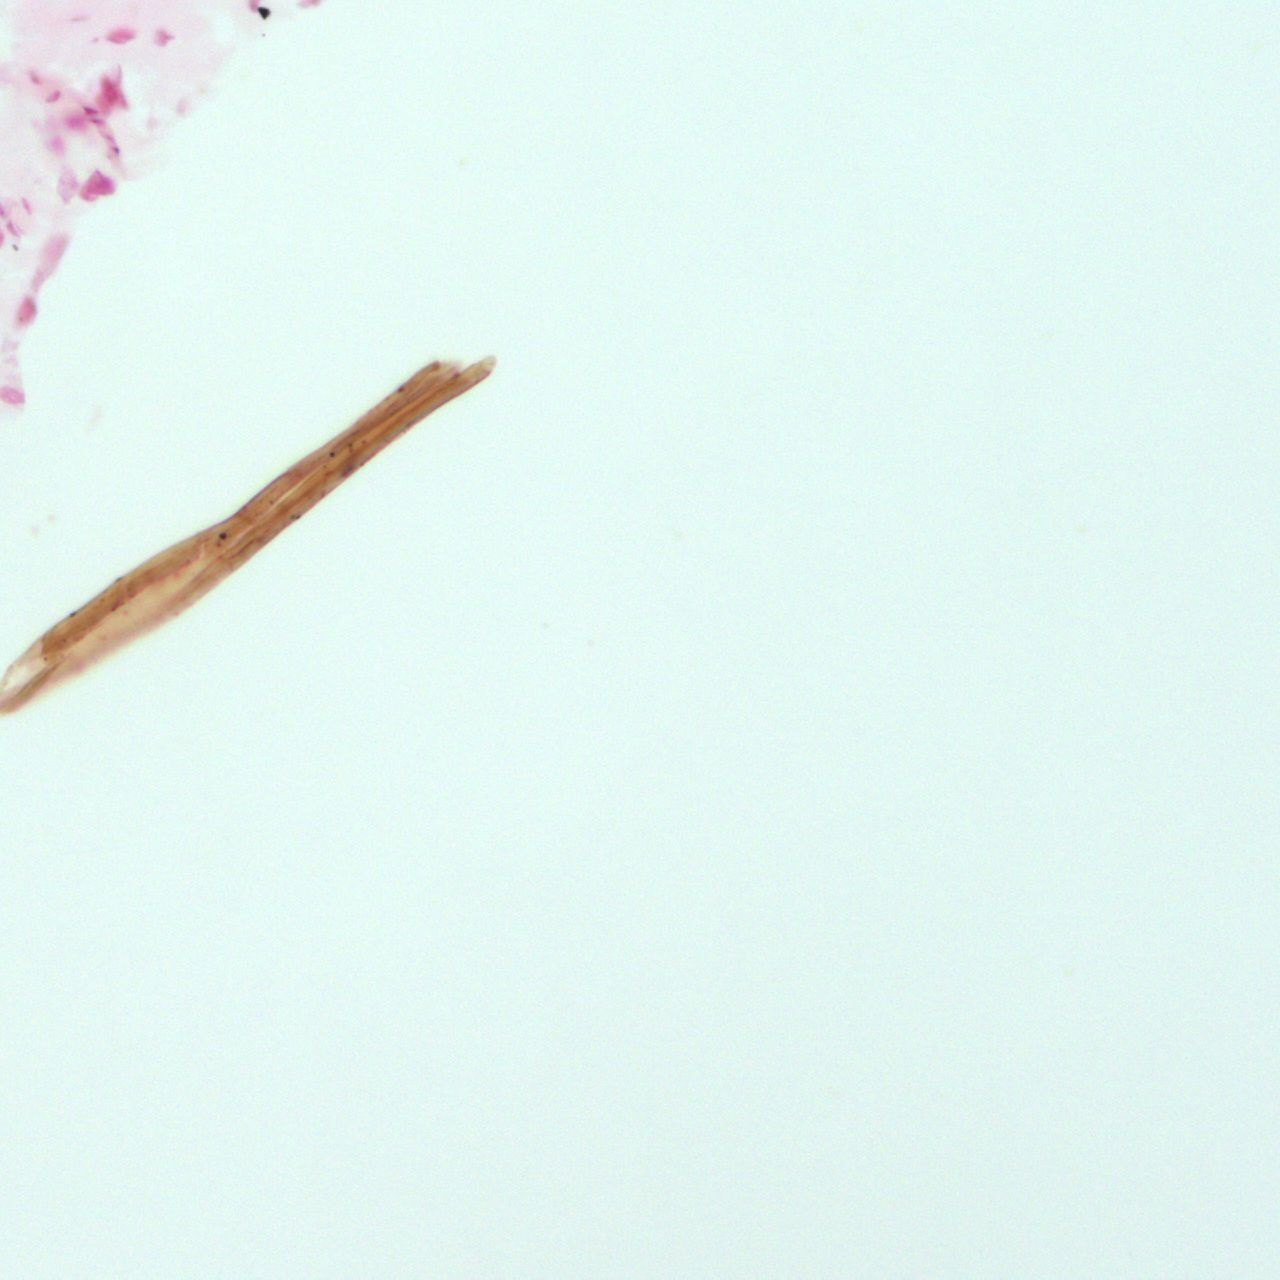dust: (257, 6, 272, 20), (13, 245, 19, 252), (263, 33, 266, 38)
nucleus-AC: (94, 73, 128, 113), (81, 169, 115, 200), (12, 294, 42, 329), (57, 166, 75, 205), (4, 217, 25, 240), (107, 28, 138, 42), (64, 114, 87, 131), (48, 136, 64, 154), (154, 30, 173, 45), (45, 88, 61, 104), (21, 198, 33, 216), (28, 73, 41, 87), (96, 131, 115, 139), (84, 107, 100, 115), (88, 118, 105, 125), (177, 103, 186, 116)
